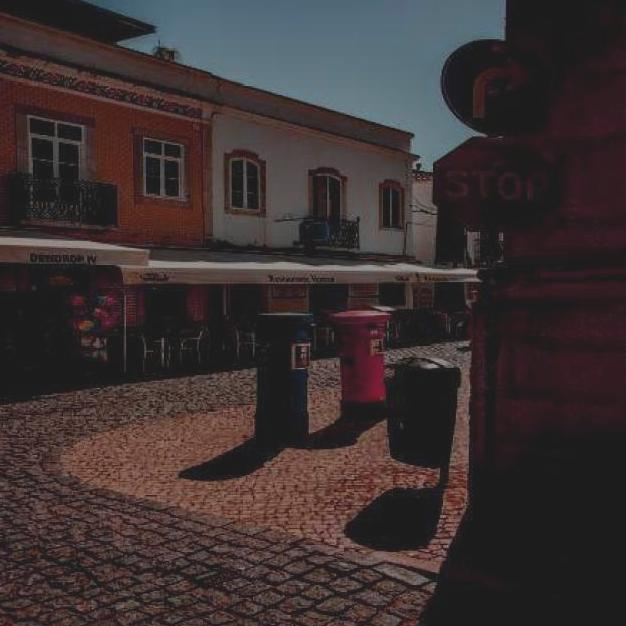stop_sign: (429, 137, 564, 234)
